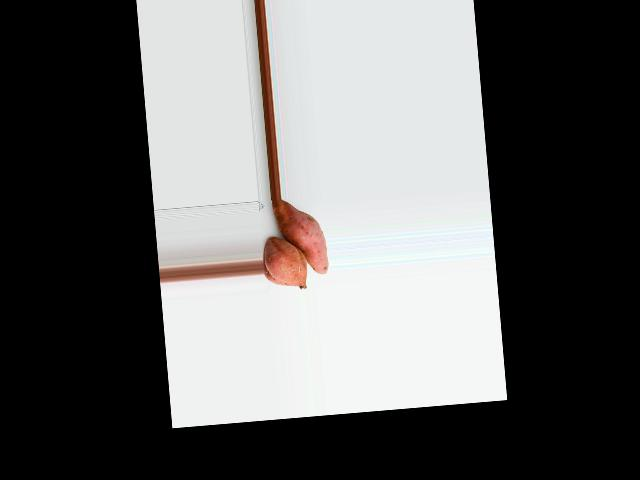sweet_potato: (266, 237, 305, 292)
